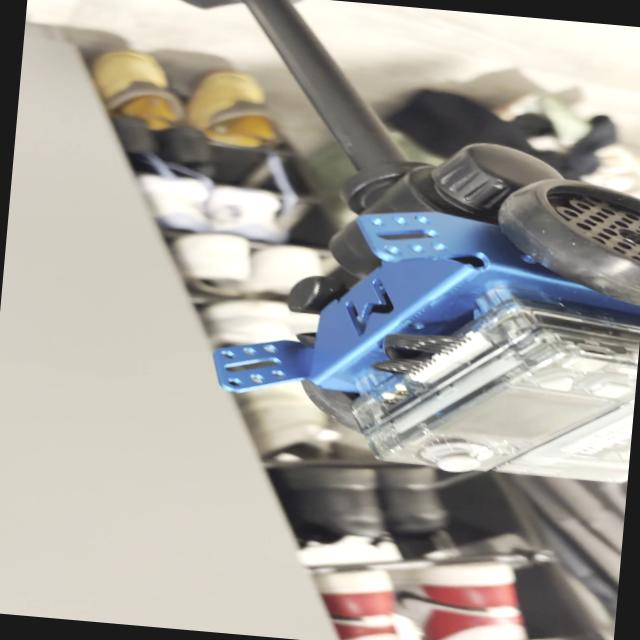mbot-detection: (189, 145, 640, 491)
